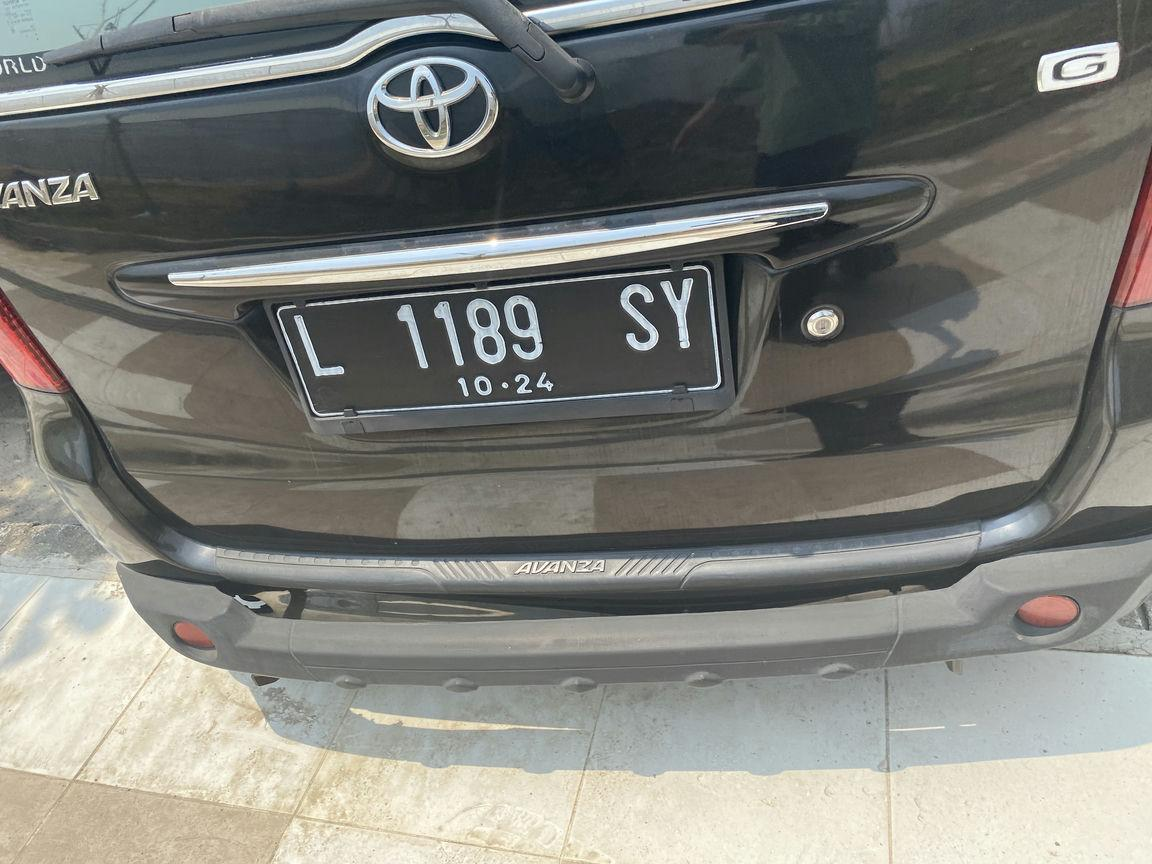plat: (274, 263, 729, 432)
